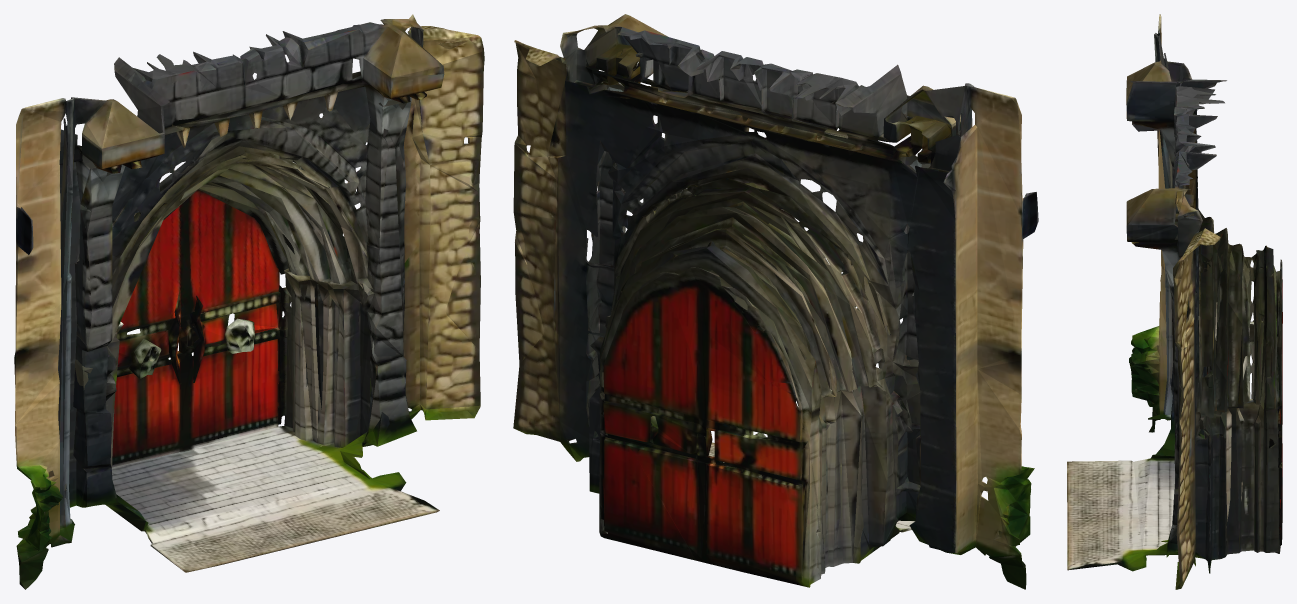
The model's file is landmark_ogre_gate.glb.
3 views of the same model, side by side, from view 1: azimuth 30°, elevation 25°; view 2: azimuth 150°, elevation 25°; view 3: azimuth 270°, elevation 25° (orthographic). The views are drawn at different scales.
Visible parts, largest first — view 1: geometry_0; view 2: geometry_0; view 3: geometry_0.
Part boxes in pixels (left/top/right/bottom): geometry_0: left=14, top=14, right=484, bottom=589; geometry_0: left=513, top=14, right=1038, bottom=589; geometry_0: left=1067, top=14, right=1282, bottom=589.
Bounding box in the file's own units: 0.999 × 0.9546 × 0.4441.
Materials: 1 (1 with a texture image).
